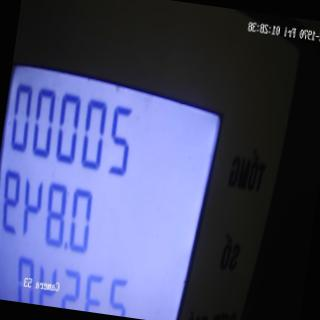screen: (0, 41, 236, 320)
